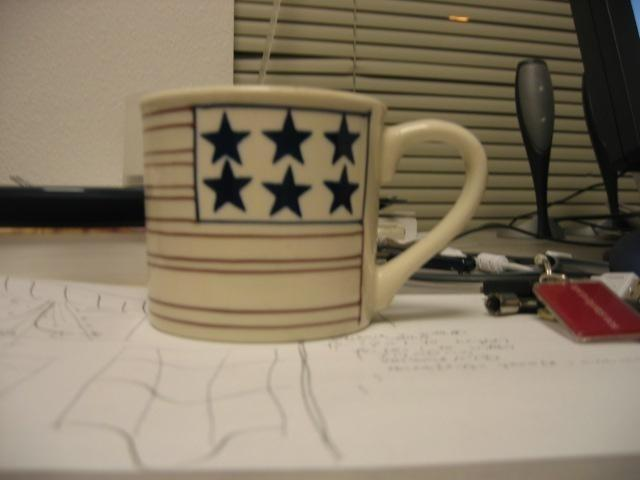cup-handle: (135, 83, 489, 346)
